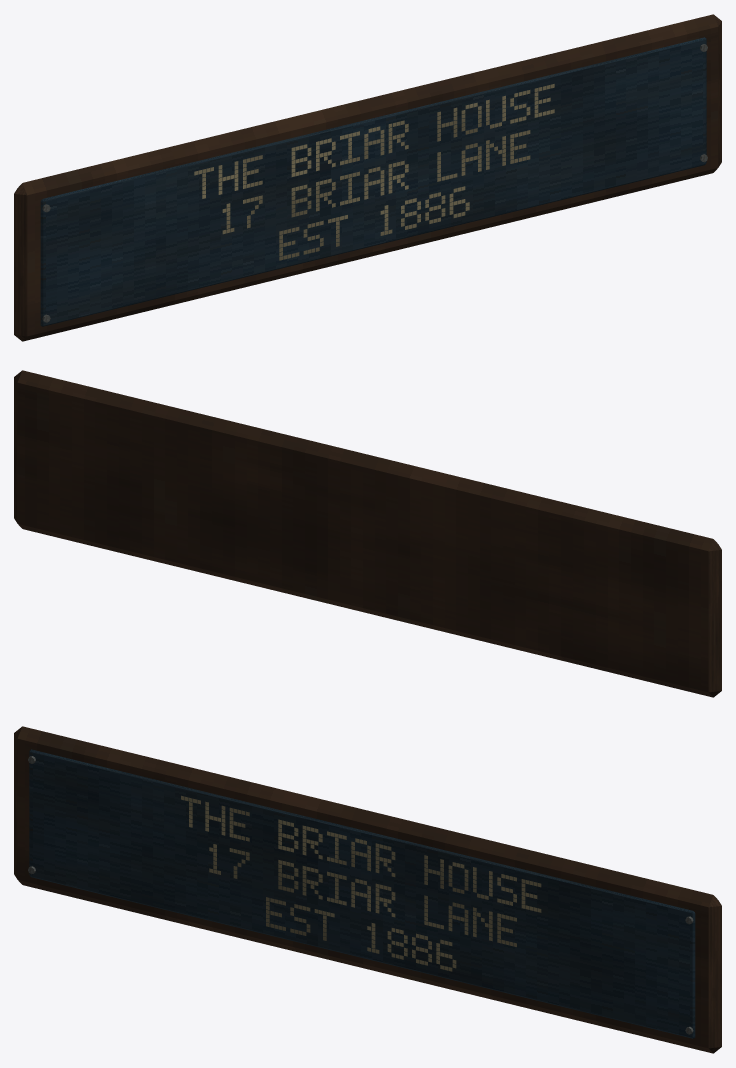
Rendered from level_sign_house_worn.glb.
The picture shows the model from 3 angles, top to bottom: view 1: azimuth 30°, elevation 25°; view 2: azimuth 150°, elevation 25°; view 3: azimuth 330°, elevation 25°; orthographic projection.
Parts seen in each view (by area): view 1: level_sign_house_worn; view 2: level_sign_house_worn; view 3: level_sign_house_worn.
Part boxes in pixels (bbox=[...]): level_sign_house_worn: bbox=[14, 14, 721, 341]; level_sign_house_worn: bbox=[14, 370, 721, 697]; level_sign_house_worn: bbox=[14, 726, 721, 1053].
Bounding box in the file's own units: 1.68 × 0.36 × 0.053.
Materials: 4 (4 with a texture image).
